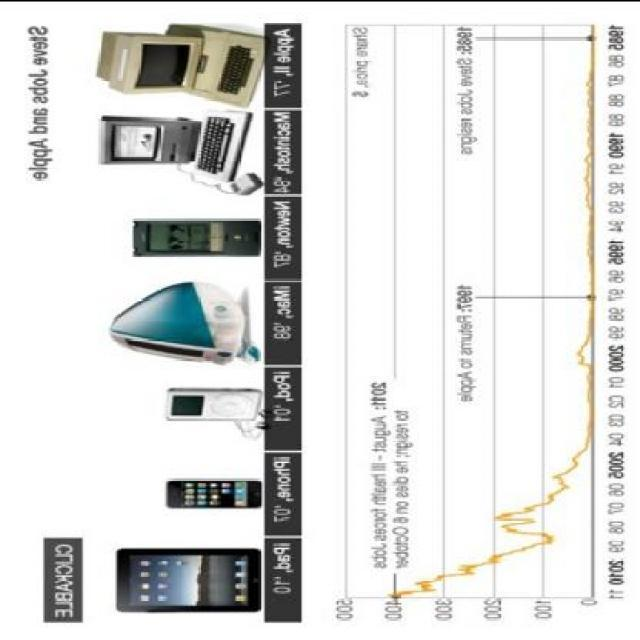phone: (115, 548, 261, 611), (129, 217, 265, 257), (152, 476, 255, 516)
